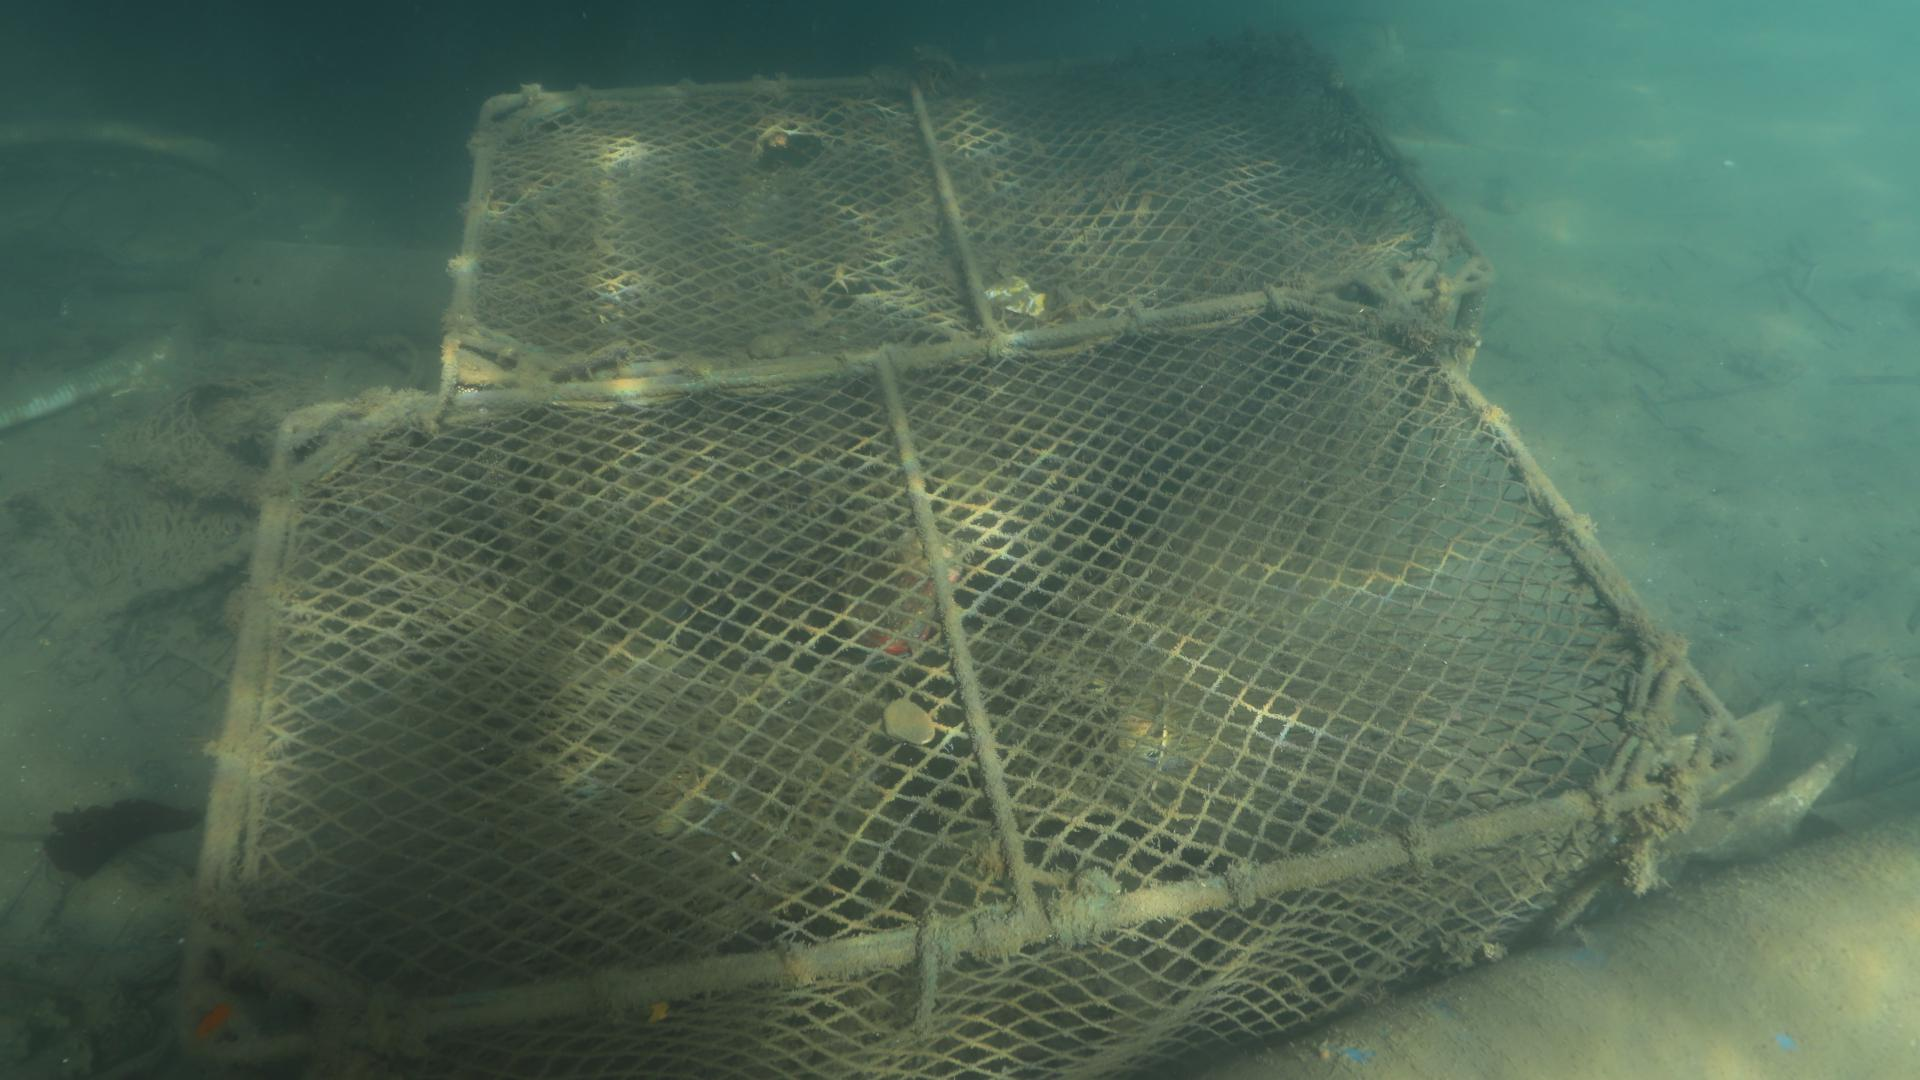rectangular fish trap: (179, 309, 1756, 1080), (438, 22, 1503, 389)
